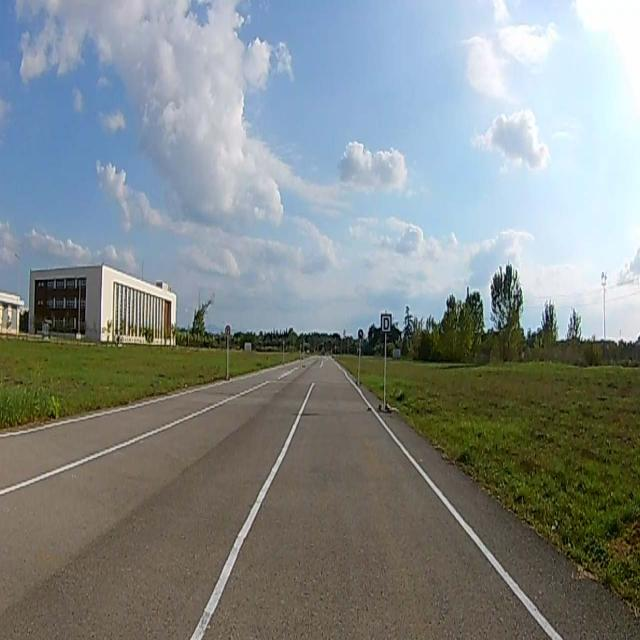durak: (382, 313, 392, 333)
